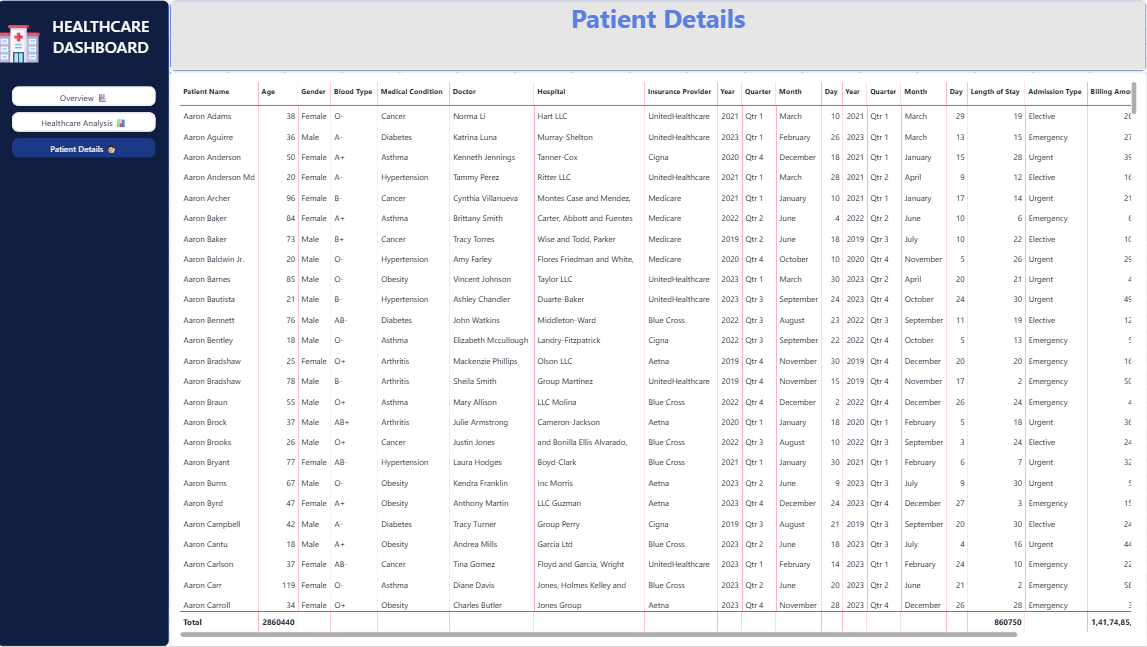

The dashboard page shown, as its layout file describes it:
{"tool":"powerbi","page":{"name":"Patient Details 🧑🏻","canvas":[1920,1080],"ordinal":2},"visuals":[{"type":"shape","box":[0,0,288,1080],"z":0,"group":"g1"},{"type":"group","id":"g1","title":"Group 1","box":[0,0,1920,1080],"z":0},{"type":"tableEx","fields":{"Values":["patient_admission_detail.patient_name","Sum(patient_admission_detail.age)","patient_admission_detail.gender","patient_admission_detail.blood_type","patient_admission_detail.medical_condition","patient_admission_detail.doctor","patient_admission_detail.hospital","patient_admission_detail.insurance_provider","patient_admission_detail.admission_date.Variation.Date Hierarchy.Year","patient_admission_detail.admission_date.Variation.Date Hierarchy.Quarter","patient_admission_detail.admission_date.Variation.Date Hierarchy.Month","patient_admission_detail.admission_date.Variation.Date Hierarchy.Day"]},"box":[288,120,1632,960],"z":1000},{"type":"shape","box":[288,0,1632,120],"z":2000,"group":"g1"},{"type":"textbox","box":[0,24,288,96],"z":3000,"group":"g1"},{"type":"image","box":[0,24,72,96],"z":4000,"group":"g1"},{"type":"pageNavigator","box":[24,144,240,120],"z":5000,"group":"g1"},{"type":"textbox","box":[288,0,1632,408],"z":5500,"group":"g1"}]}

Visuals, with their boxes in screenshot pixels (x1, y1, x2, y2), scaled from the page's 1920x1080 canvas onto the 1147x647 screenshot:
shape: box=[0, 0, 172, 646]
"Group 1" group: box=[0, 0, 1146, 646]
tableEx - patient_admission_detail.patient_name x Sum(patient_admission_detail.age): box=[172, 72, 1146, 646]
shape: box=[172, 0, 1146, 72]
textbox: box=[0, 14, 172, 72]
image: box=[0, 14, 43, 72]
pageNavigator: box=[14, 86, 158, 158]
textbox: box=[172, 0, 1146, 244]
